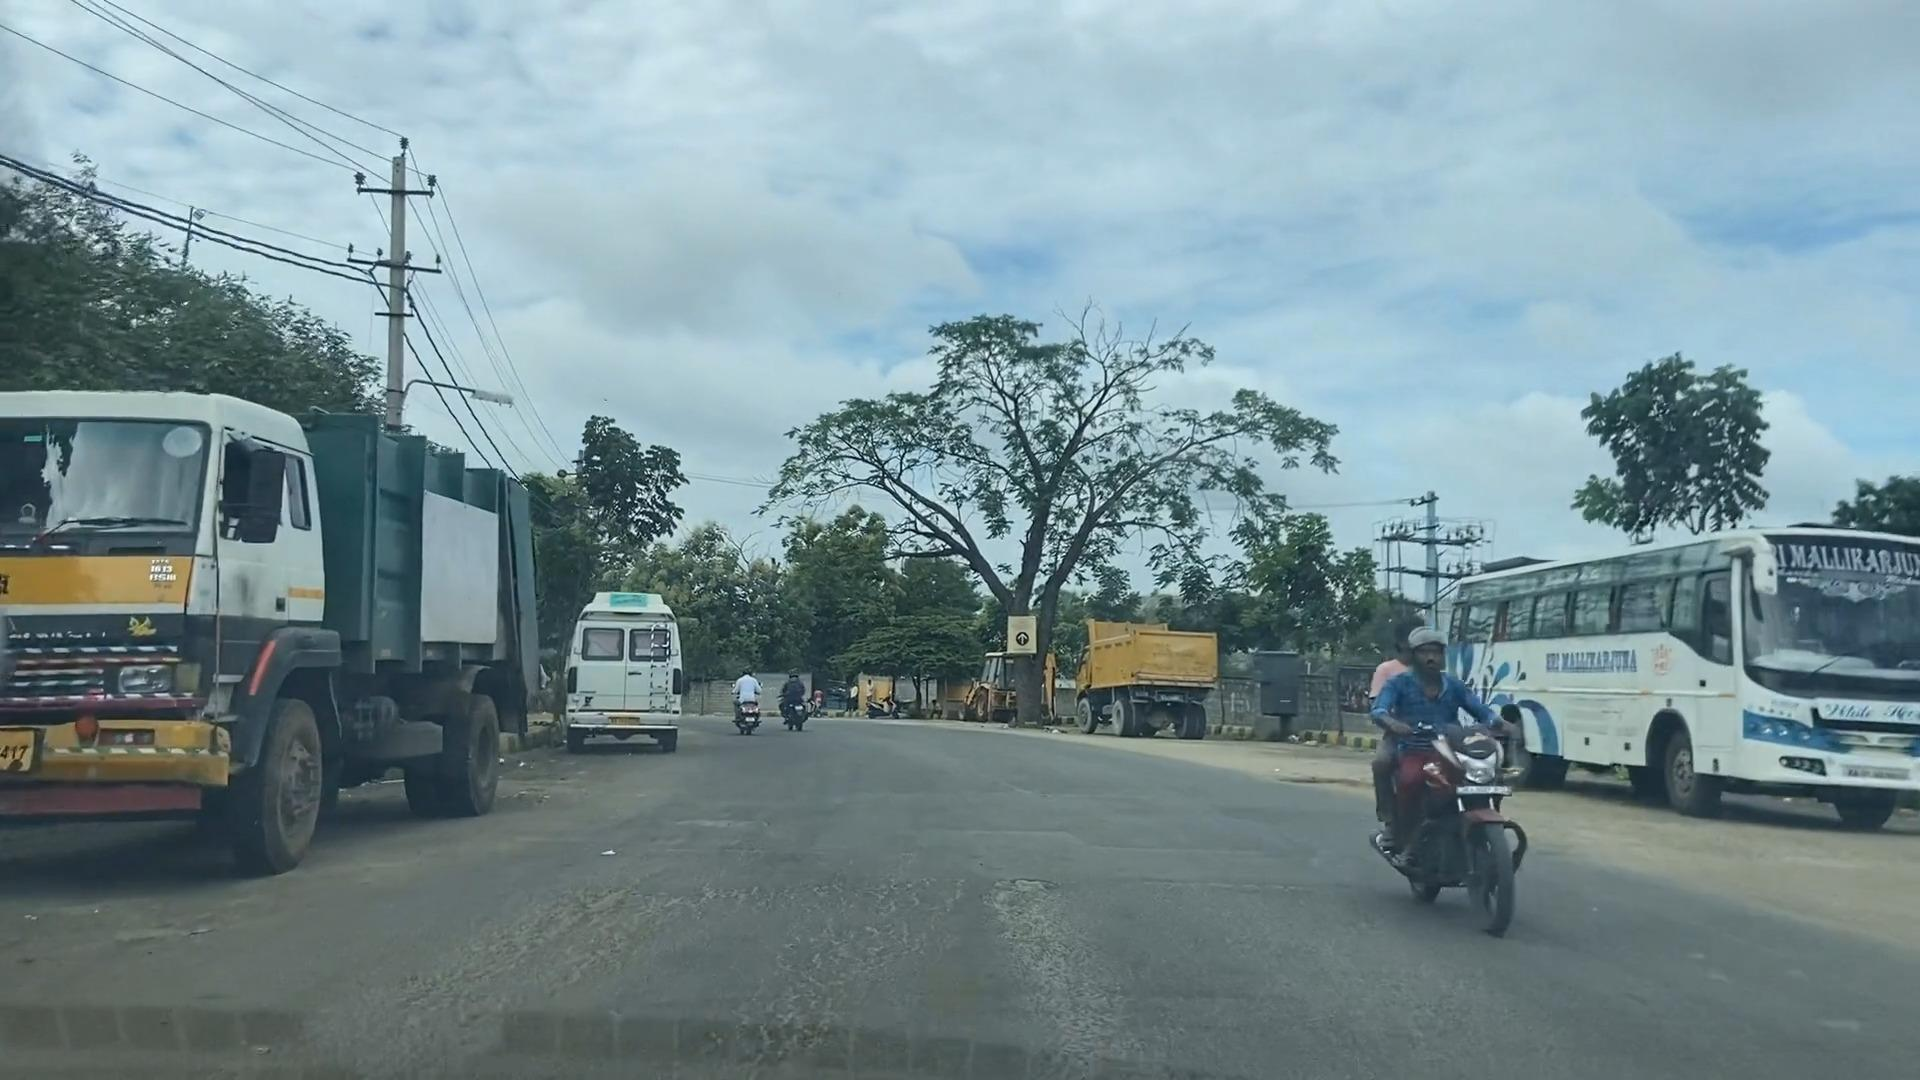HMV: (0, 378, 578, 893), (1432, 535, 1920, 820), (558, 574, 700, 781), (1055, 608, 1242, 745), (928, 632, 1077, 740)
LMV: (1364, 612, 1543, 952), (712, 626, 785, 761), (764, 624, 828, 770)
RoadDamages: (911, 856, 1163, 1069)
